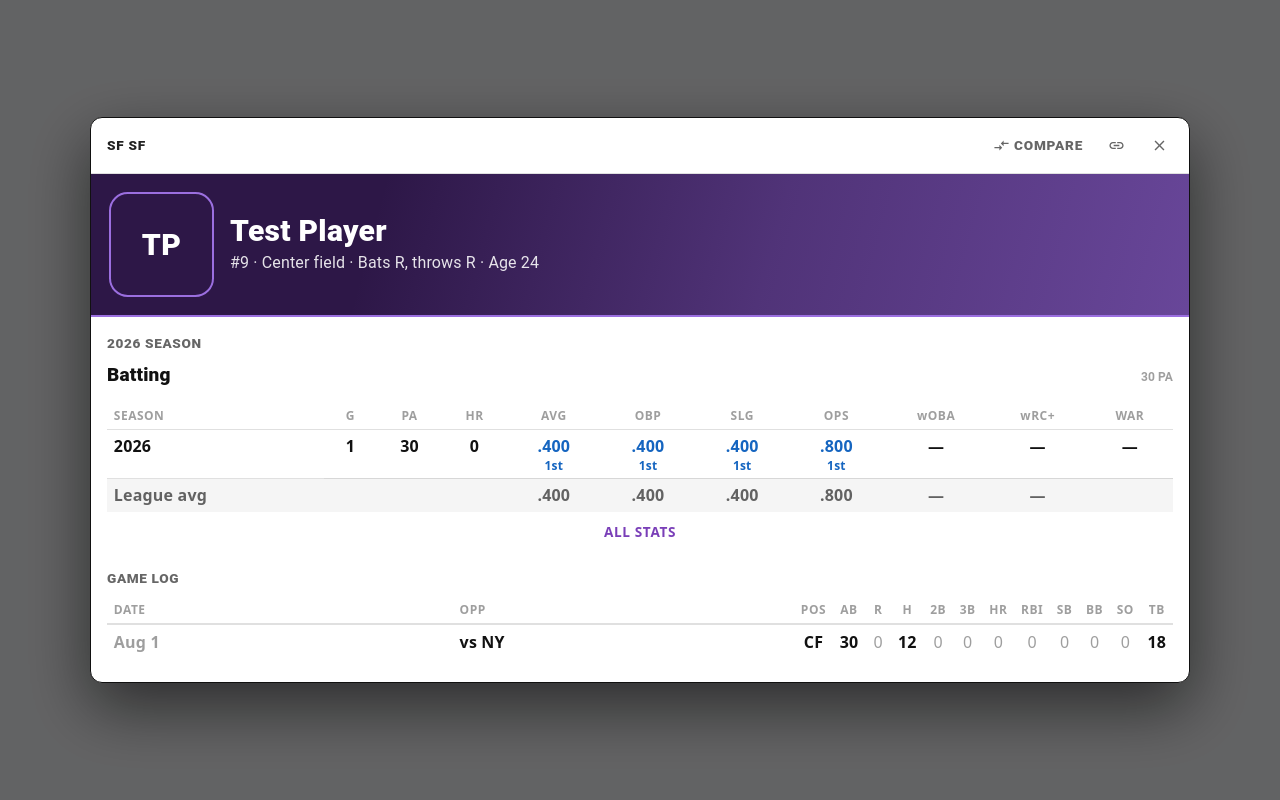
PlayerDetail: league ranks › opens the standard and advanced lines behind All stats
Expected: the text "Standard" is not shown
Click the button "All stats" at (640, 532), box 107,516 -> 1173,548
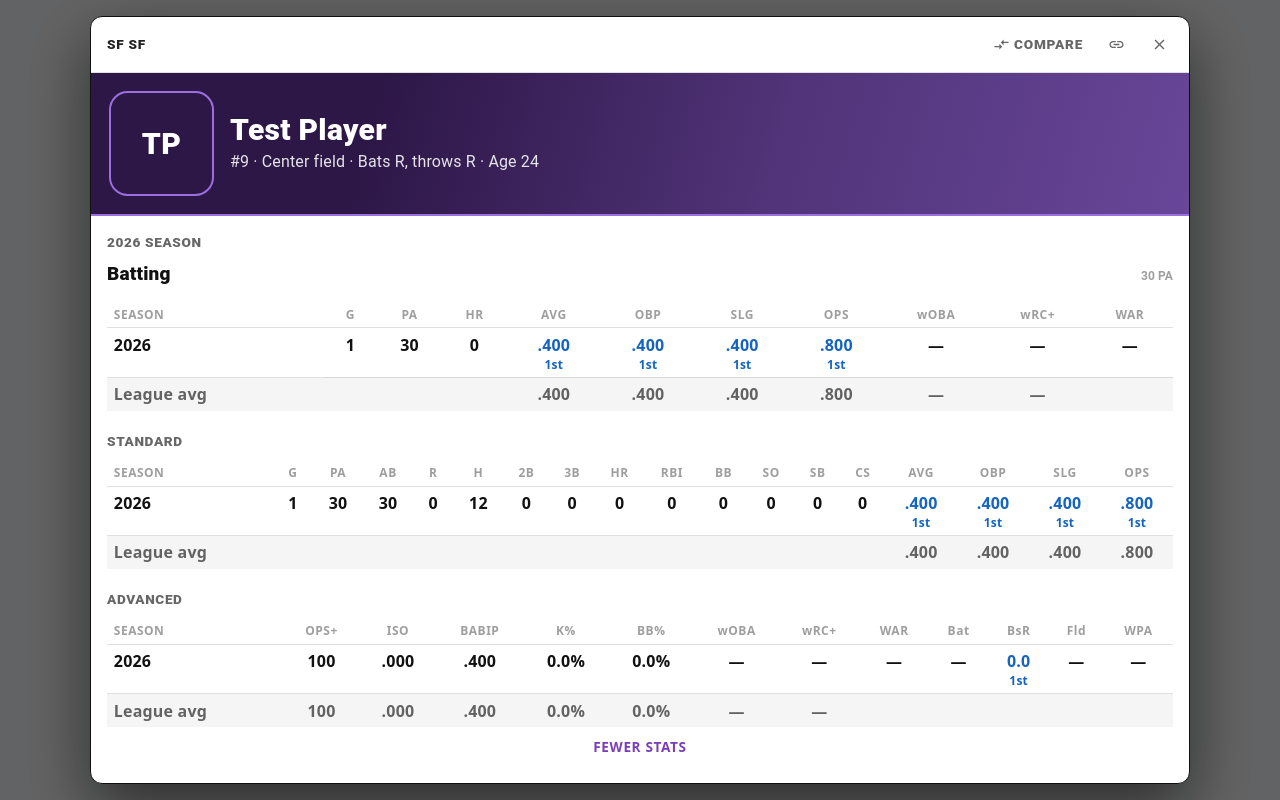
Now the text "Standard" is shown, box 107,431 -> 183,451
Now the text "Advanced" is shown, box 107,589 -> 182,609
Click the button "Fewer stats" at (640, 747), box 107,731 -> 1173,763
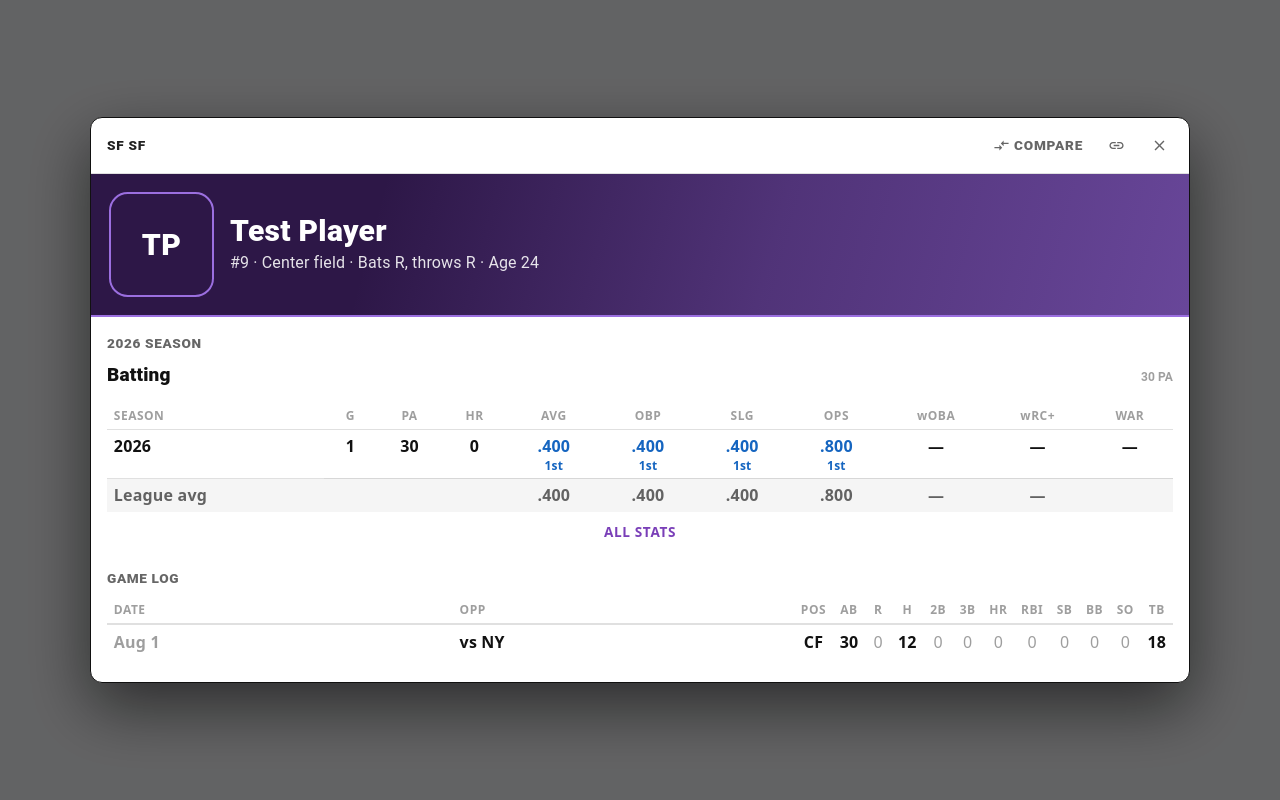
Now the text "Standard" is gone
